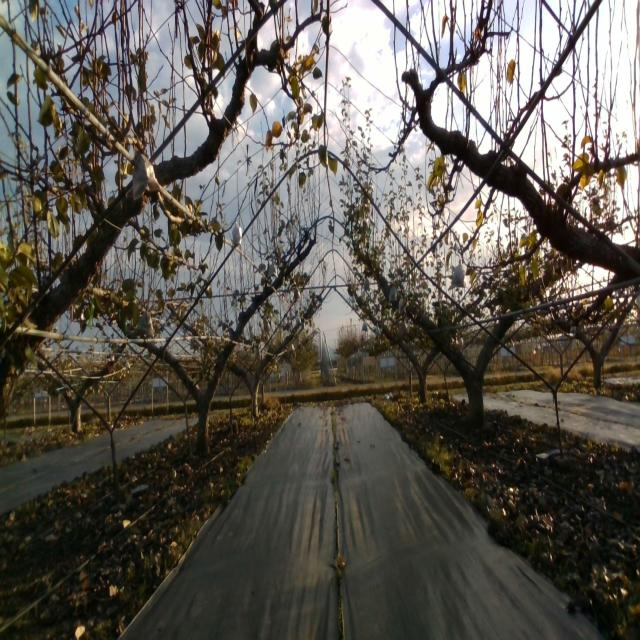pearbags: (132, 150, 162, 200), (450, 257, 464, 288), (232, 221, 243, 246), (267, 258, 279, 278)
